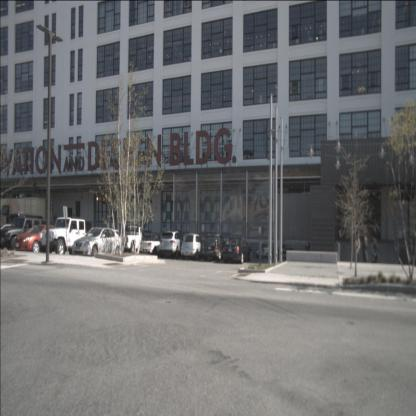human-pedestrian-adult: (371, 236, 379, 272), (355, 231, 361, 273), (362, 235, 368, 273)
vehicle-car: (41, 216, 93, 256), (72, 226, 123, 263), (0, 216, 50, 252), (14, 223, 64, 256), (223, 235, 252, 264), (201, 233, 229, 263), (158, 230, 186, 260), (180, 232, 206, 260), (140, 233, 166, 258)
vehicle-truck: (116, 225, 148, 256)
